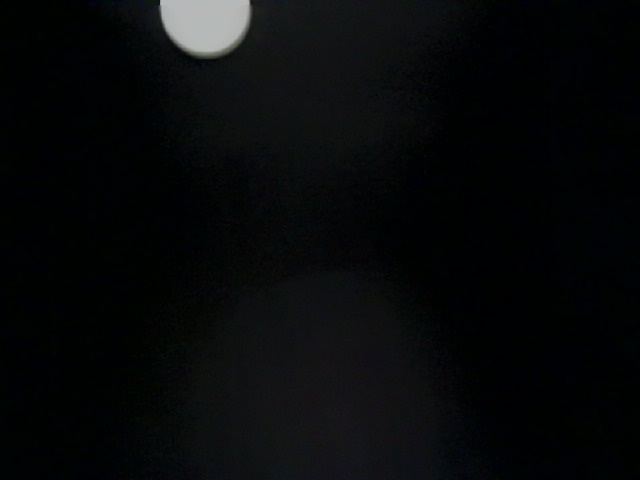YHLJ: (236, 207, 306, 278)
